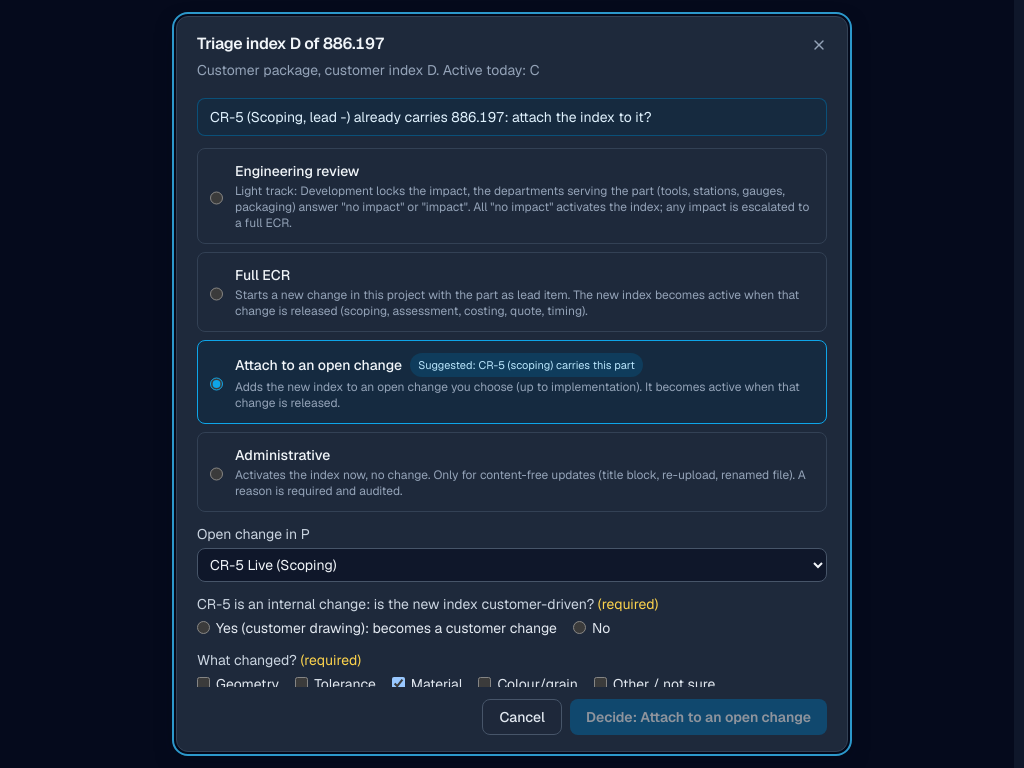
it: RouteDialog (§1 intake) › attaching to an internal change asks whether it is customer-driven
This screenshot has width=1024, height=768.
Earlier steps of the test are not shown.
Later steps or results of the test are not shown.
Expected: the element with test id "customer-driven" is shown, [197,595,658,637]
Expected: the button with test id "route-submit" is disabled, [570,699,827,735]
Click the radio button with test id "customer-driven-yes" at (204, 628), box [197,621,210,634]
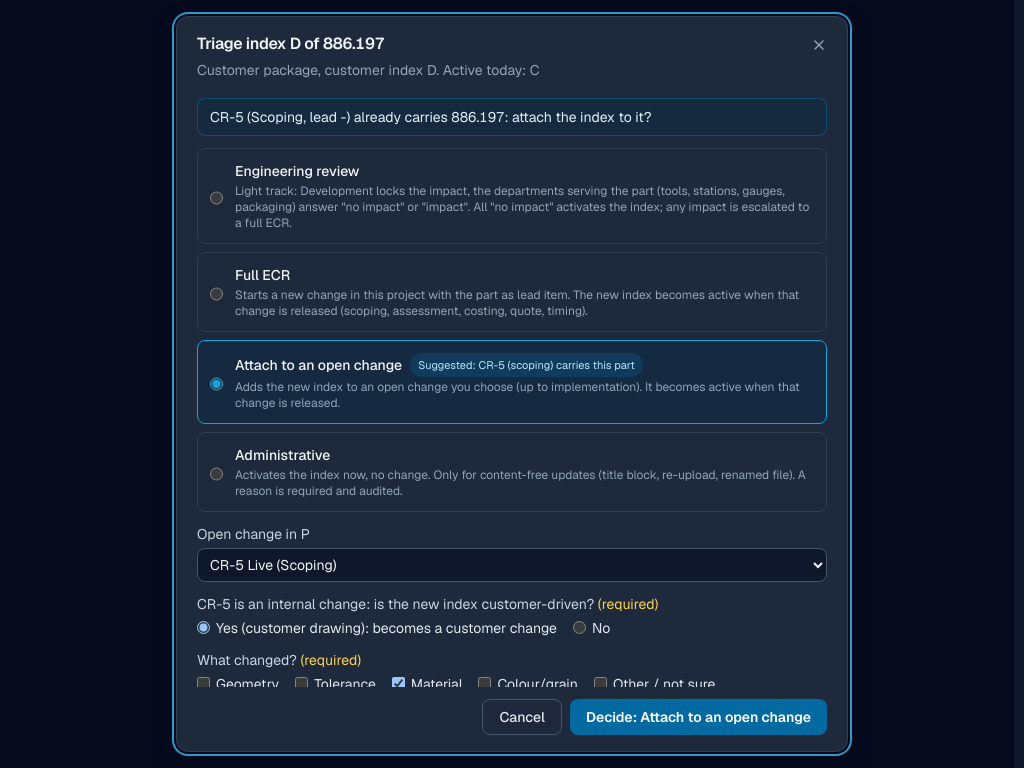
Result: the button with test id "route-submit" is enabled at [570,699,827,735]
